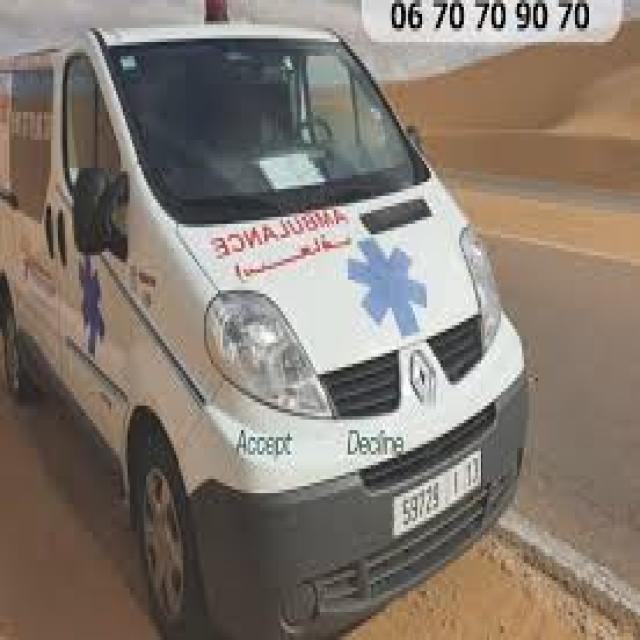ambulance: (1, 0, 546, 640)
